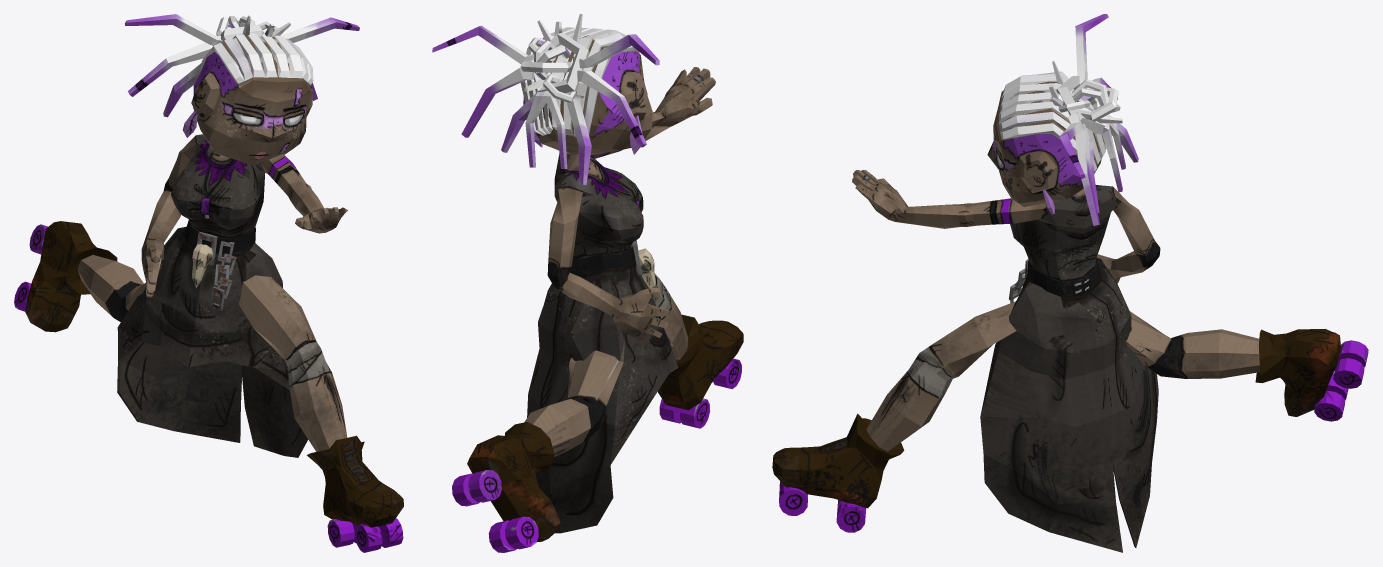
Rendered from bruja_000020.obj.
3 views of the same model, side by side, from view 1: azimuth 30°, elevation 25°; view 2: azimuth 150°, elevation 25°; view 3: azimuth 270°, elevation 25° (orthographic). The views are drawn at different scales.
Visible parts, largest first — view 1: Bruja_Plane.001; view 2: Bruja_Plane.001; view 3: Bruja_Plane.001.
Part boxes in pixels (x1,y1,x2,y2): Bruja_Plane.001: (14,14,403,552); Bruja_Plane.001: (432,14,743,552); Bruja_Plane.001: (772,14,1368,552).
Size of the model in its own units: 7.35 by 14.69 by 16.62.
